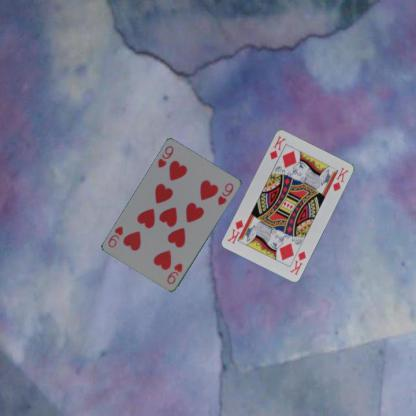9h: (155, 144, 175, 170), (164, 261, 184, 286)
Kd: (267, 133, 287, 161), (288, 249, 308, 276)
